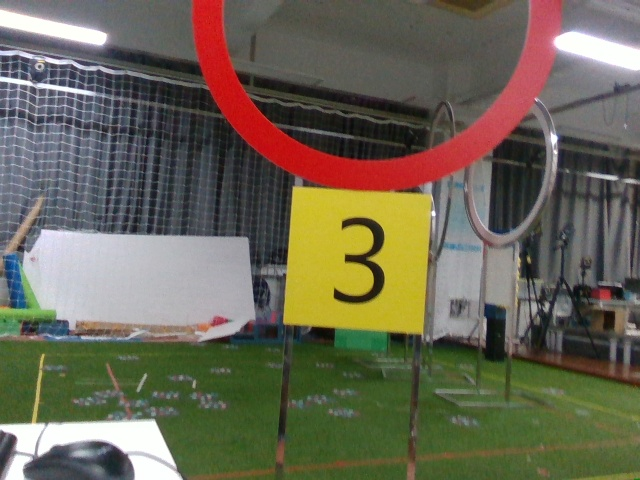target: (298, 180, 417, 326)
